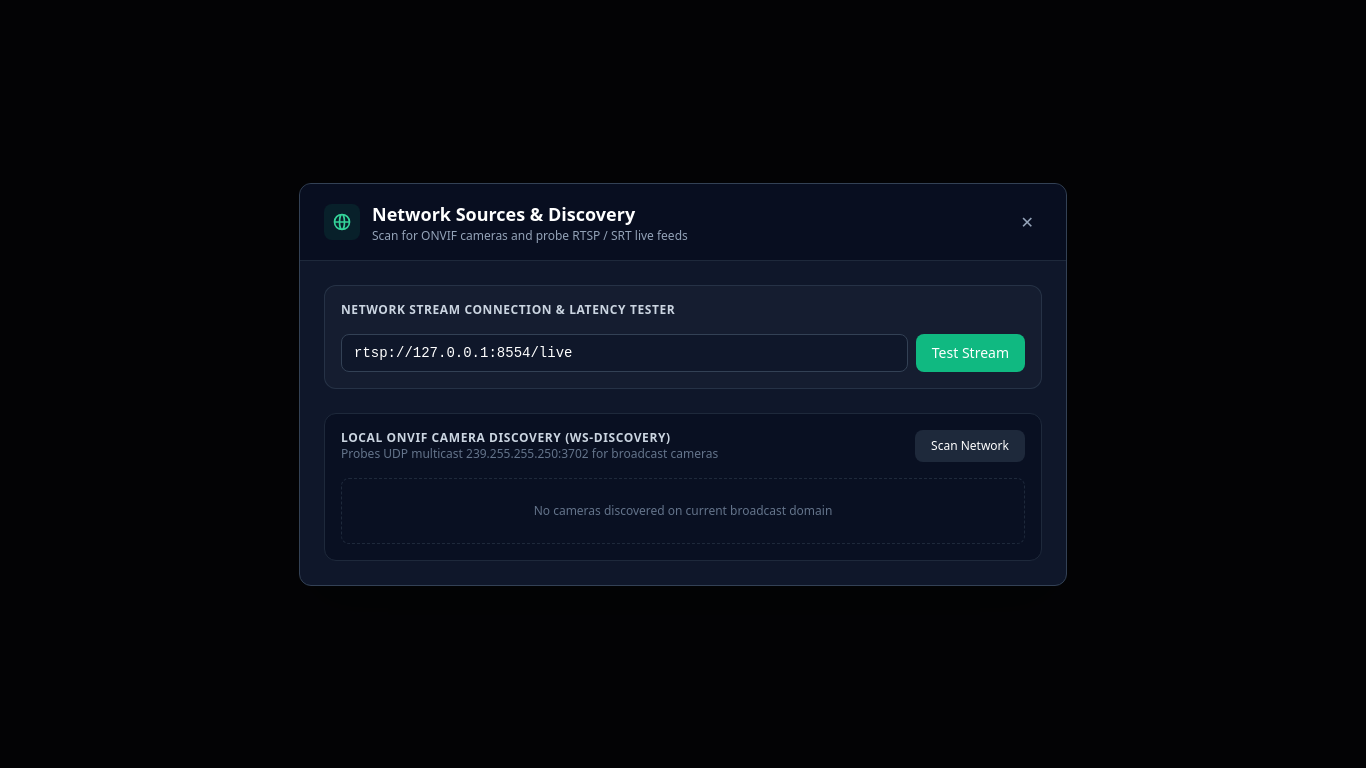
LiveStudio Pro Phase 8 Remote Production, Guests, PTZ, Tally and Remote Control › renders NetworkSourcesModal with stream latency probe and ONVIF camera discovery
Expected: the heading "Network Sources & Discovery" is shown, [372,202,635,226]
Expected: the heading "Network Stream Connection & Latency Tester" is shown, [341,300,675,318]
Note: Run connection test
Step 1. Click the button "Test Stream" → (970, 352), box [916,334,1025,372]
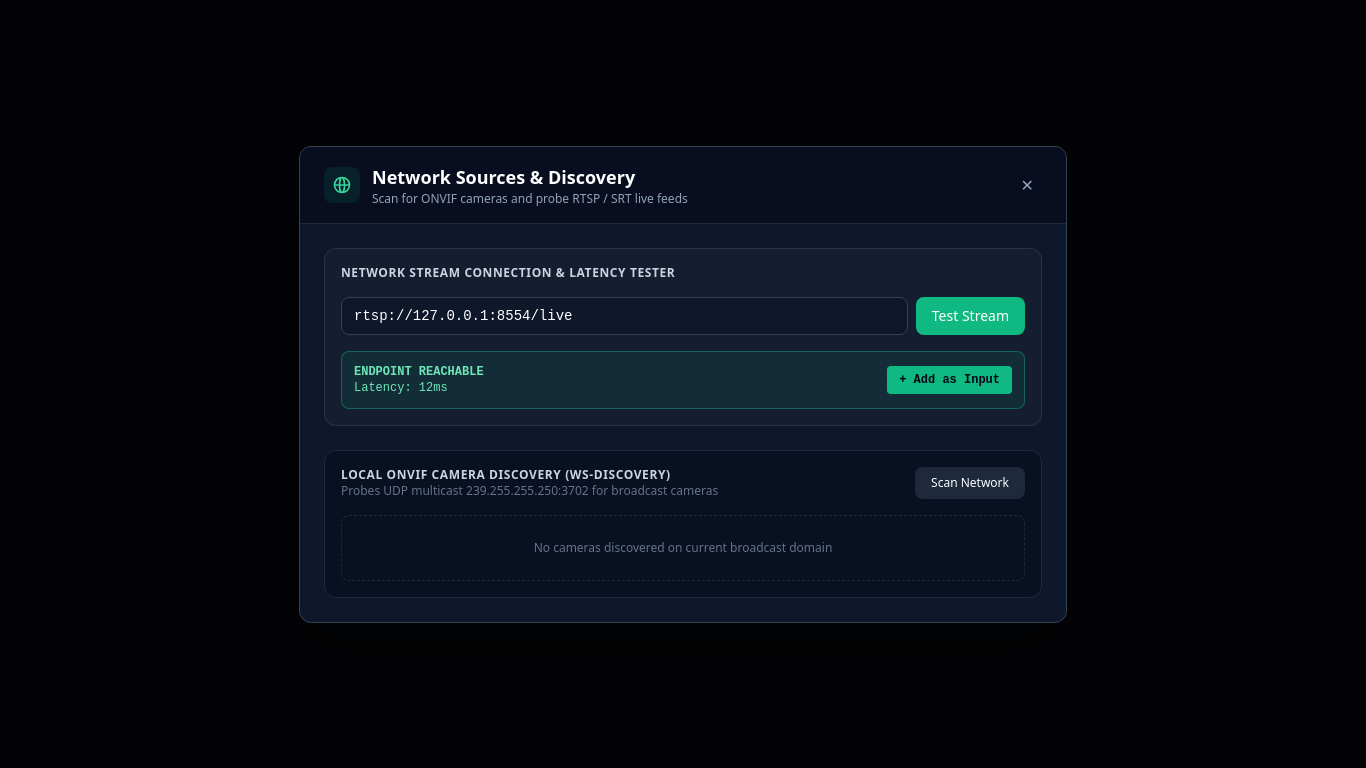
Result: the text "ENDPOINT REACHABLE" is shown at [354,364,484,380]
Result: the button "+ Add as Input" is shown at [887,366,1012,394]
Note: Run ONVIF scan
Step 2. Click the button "Scan Network" → (970, 482), box [915,466,1025,498]
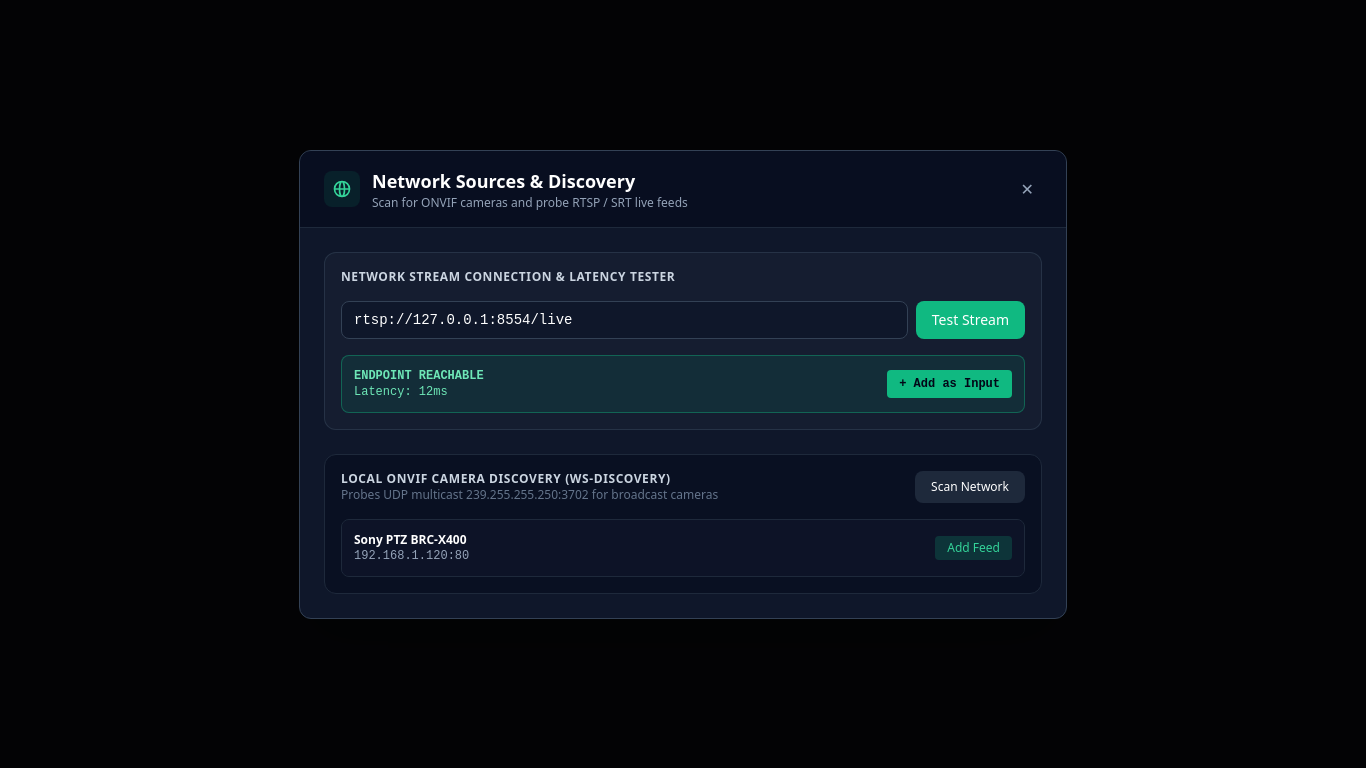
Result: the text "Sony PTZ BRC-X400" is shown at [354,532,469,548]
Result: the button "Add Feed" is shown at [935,536,1012,560]
